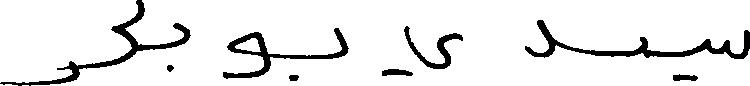X: (383, 21, 461, 80), (292, 23, 347, 85), (642, 32, 696, 85), (0, 56, 75, 85), (230, 27, 268, 82), (115, 0, 141, 69), (709, 25, 749, 63), (525, 15, 554, 62), (168, 18, 188, 76)
